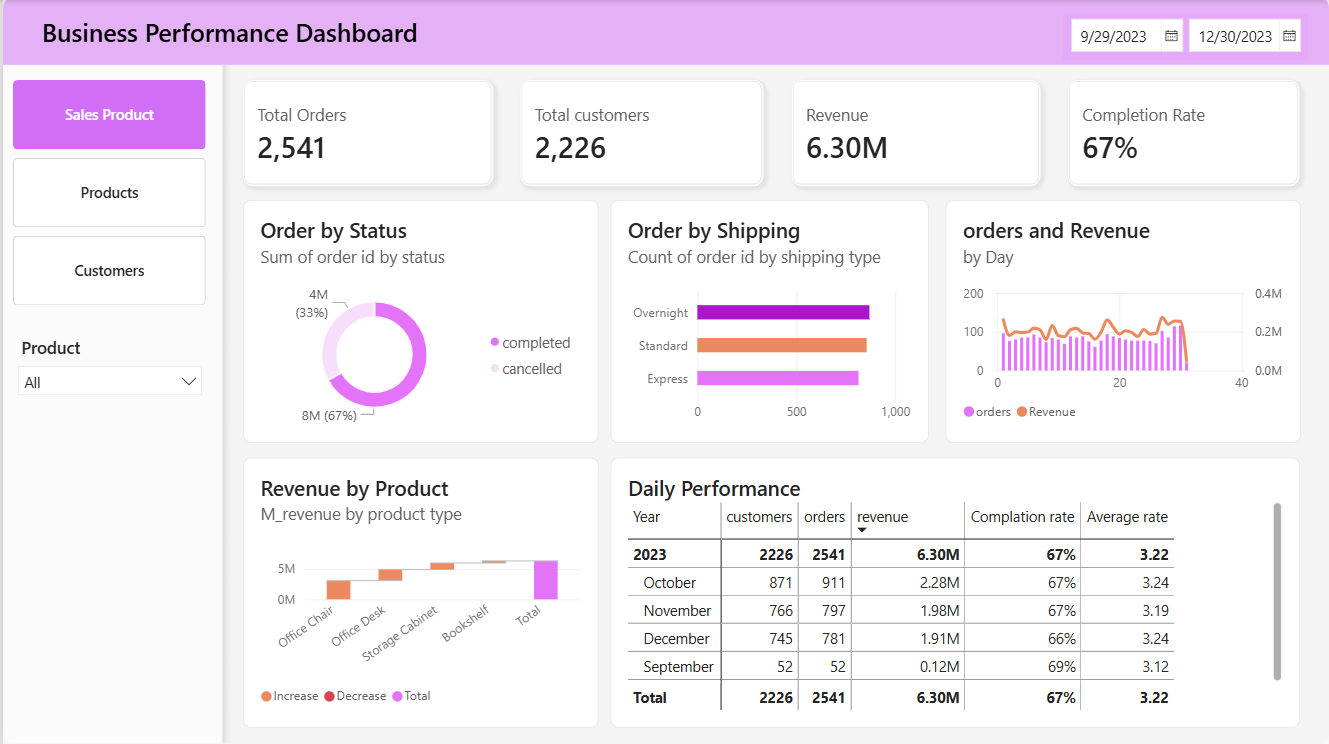

The page's visual inventory and layout, read from the dashboard file:
{"tool":"powerbi","page":{"name":"Sales Product","canvas":[1280,720],"ordinal":0},"visuals":[{"type":"textbox","title":"Business Performance Dashboard ","box":[25.7,14.3,387.1,54.3],"z":0},{"type":"cardVisual","fields":{"Data":["CountNonNull(orders.order id)"]},"box":[231.6,77.2,241.3,102.5],"z":1000},{"type":"cardVisual","fields":{"Data":["Count(orders.customer id)"]},"box":[500,77.8,234.4,102.2],"z":2000},{"type":"cardVisual","fields":{"Data":["*Measure table.M_revenue"]},"box":[761.1,77.8,240,102.2],"z":3000},{"type":"cardVisual","fields":{"Data":["*Measure table.M_Completion Rate"]},"box":[1027.8,77.8,223.3,102.2],"z":4000},{"type":"donutChart","title":"Order by Status","fields":{"Category":["orders.status"],"Y":["Sum(orders.order id)"]},"box":[231.9,193.1,343.1,234.7],"z":5000},{"type":"lineClusteredColumnComboChart","fields":{"Category":["orders.order date.Variation.Date Hierarchy.Year","orders.order date.Variation.Date Hierarchy.Quarter","orders.order date.Variation.Date Hierarchy.Month","orders.order date.Variation.Date Hierarchy.Day"],"Y":["CountNonNull(orders.order id)"],"Y2":["*Measure table.M_revenue"]},"box":[909.7,193.1,343.1,234.7],"z":6000},{"type":"clusteredBarChart","title":"Order by Shipping","fields":{"Category":["shipping.shipping type"],"Y":["CountNonNull(orders.order id)"]},"box":[586.1,193.1,306.9,234.7],"z":7000},{"type":"waterfallChart","title":"Revenue by Product","fields":{"Category":["product.product type"],"Y":["*Measure table.M_revenue"]},"box":[231.9,441.7,343.1,261.1],"z":8000},{"type":"pivotTable","title":"Daily Performance","fields":{"Rows":["orders.order date.Variation.Date Hierarchy.Year","orders.order date.Variation.Date Hierarchy.Month"],"Values":["Count(orders.customer id)","CountNonNull(orders.order id)","*Measure table.M_revenue","*Measure table.M_Completion Rate","Avg(orders.feedback)"]},"box":[586.1,441.7,665.3,261.1],"z":9000},{"type":"pageNavigator","box":[9.7,77.2,187,217.2],"z":10000},{"type":"slicer","fields":{"Values":["product.product type"]},"box":[10,325,187.5,71.2],"z":11000},{"type":"slicer","fields":{"Values":["payment.payment type"]},"box":[10,416.2,187.5,71.2],"z":12000},{"type":"slicer","fields":{"Values":["orders.order date"]},"box":[1022.5,13.8,236.2,45],"z":13000}]}

Visuals, with their boxes in screenshot pixels (x1, y1, x2, y2), scaled from the page's 1280x720 canvas onto the 1329x744 screenshot:
"Business Performance Dashboard " textbox: 27, 15, 429, 71
cardVisual - CountNonNull(orders.order id): 240, 80, 491, 186
cardVisual - Count(orders.customer id): 519, 80, 763, 186
cardVisual - *Measure table.M_revenue: 790, 80, 1039, 186
cardVisual - *Measure table.M_Completion Rate: 1067, 80, 1299, 186
"Order by Status" donutChart: 241, 200, 597, 442
lineClusteredColumnComboChart - orders.order date.Variation.Date Hierarchy.Year x orders.order date.Variation.Date Hierarchy.Quarter: 945, 200, 1301, 442
"Order by Shipping" clusteredBarChart: 609, 200, 927, 442
"Revenue by Product" waterfallChart: 241, 456, 597, 726
"Daily Performance" pivotTable: 609, 456, 1299, 726
pageNavigator: 10, 80, 204, 304
slicer - product.product type: 10, 336, 205, 409
slicer - payment.payment type: 10, 430, 205, 504
slicer - orders.order date: 1062, 14, 1307, 61
